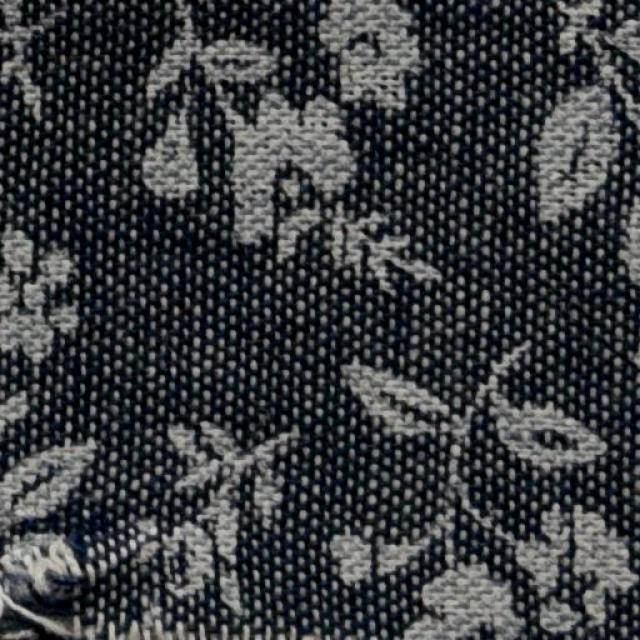Snag: (0, 517, 100, 639)
